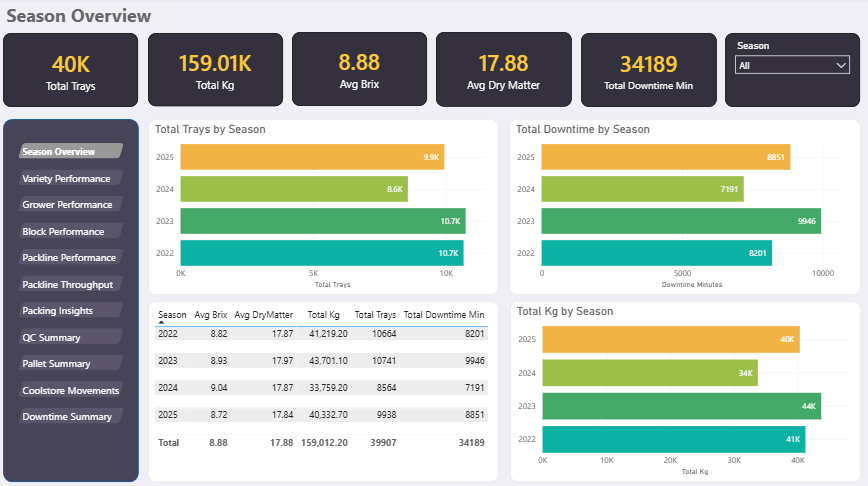

What the dashboard file says about the page in this screenshot:
{"tool":"powerbi","page":{"name":"Season Overview","canvas":[1280,720],"ordinal":0},"visuals":[{"type":"cardVisual","fields":{"Data":["Avg(view_SeasonSummary.AvgDryMatter)"]},"box":[644.1,51.1,199.5,110.1],"z":0},{"type":"cardVisual","fields":{"Data":["Avg(view_SeasonSummary.AvgBrix)"]},"box":[431.6,51.6,198.8,109],"z":1000},{"type":"cardVisual","fields":{"Data":["Sum(view_SeasonSummary.TotalKg)"]},"box":[219.5,53,198.8,107.5],"z":2000},{"type":"cardVisual","fields":{"Data":["Sum(view_SeasonSummary.TotalTrays)"]},"box":[5.8,53.3,199,109],"z":3000},{"type":"cardVisual","fields":{"Data":["Sum(view_SeasonSummary.TotalDowntime)"]},"box":[856.7,52.7,199.5,108.5],"z":4000},{"type":"slicer","fields":{"Values":["view_SeasonSummary.Season"]},"box":[1069.4,53,198.8,109],"z":5000},{"type":"pivotTable","fields":{"Values":["Avg(view_SeasonSummary.AvgBrix)","Avg(view_SeasonSummary.AvgDryMatter)","Sum(view_SeasonSummary.TotalKg)","Sum(view_SeasonSummary.TotalTrays)","Sum(view_SeasonSummary.TotalDowntime)"],"Rows":["view_SeasonSummary.Season"]},"box":[219.5,447.8,517,266.6],"z":6000},{"type":"barChart","title":"Total Trays by Season","fields":{"Category":["view_SeasonSummary.Season"],"Y":["Sum(view_SeasonSummary.TotalTrays)"]},"box":[219.5,179.7,517,259.2],"z":7000},{"type":"barChart","title":"Total Downtime by Season","fields":{"Category":["view_SeasonSummary.Season"],"Y":["Sum(view_SeasonSummary.TotalDowntime)"]},"box":[751.2,179.7,518.5,259.2],"z":8000},{"type":"shape","box":[5.8,180,200.2,535],"z":9000},{"type":"pageNavigator","box":[27.4,214.6,157,420.5],"z":10000},{"type":"barChart","title":"Total Kg by Season","fields":{"Category":["view_SeasonSummary.Season"],"Y":["Sum(view_SeasonSummary.TotalKg)"]},"box":[753.3,448.5,517.1,266.5],"z":11000},{"type":"textbox","box":[5.9,2.9,250.4,50.1],"z":11001}]}

Visuals, with their boxes in screenshot pixels (x1, y1, x2, y2), scaled from the page's 1280x720 canvas onto the 868x486 screenshot:
cardVisual - Avg(view_SeasonSummary.AvgDryMatter): [437, 34, 572, 109]
cardVisual - Avg(view_SeasonSummary.AvgBrix): [293, 35, 427, 108]
cardVisual - Sum(view_SeasonSummary.TotalKg): [149, 36, 284, 108]
cardVisual - Sum(view_SeasonSummary.TotalTrays): [4, 36, 139, 110]
cardVisual - Sum(view_SeasonSummary.TotalDowntime): [581, 36, 716, 109]
slicer - view_SeasonSummary.Season: [725, 36, 860, 109]
pivotTable - Avg(view_SeasonSummary.AvgBrix) x Avg(view_SeasonSummary.AvgDryMatter): [149, 302, 499, 482]
"Total Trays by Season" barChart: [149, 121, 499, 296]
"Total Downtime by Season" barChart: [509, 121, 861, 296]
shape: [4, 122, 140, 483]
pageNavigator: [19, 145, 125, 429]
"Total Kg by Season" barChart: [511, 303, 861, 483]
textbox: [4, 2, 174, 36]
